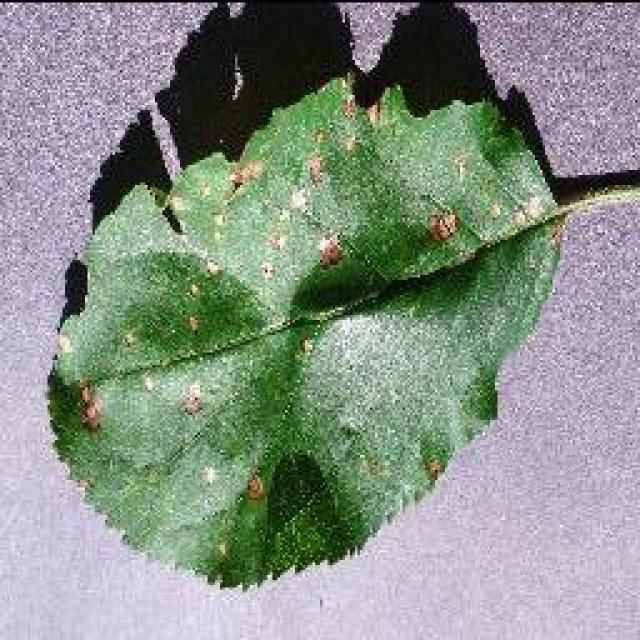Black_rot: (45, 70, 565, 590)
